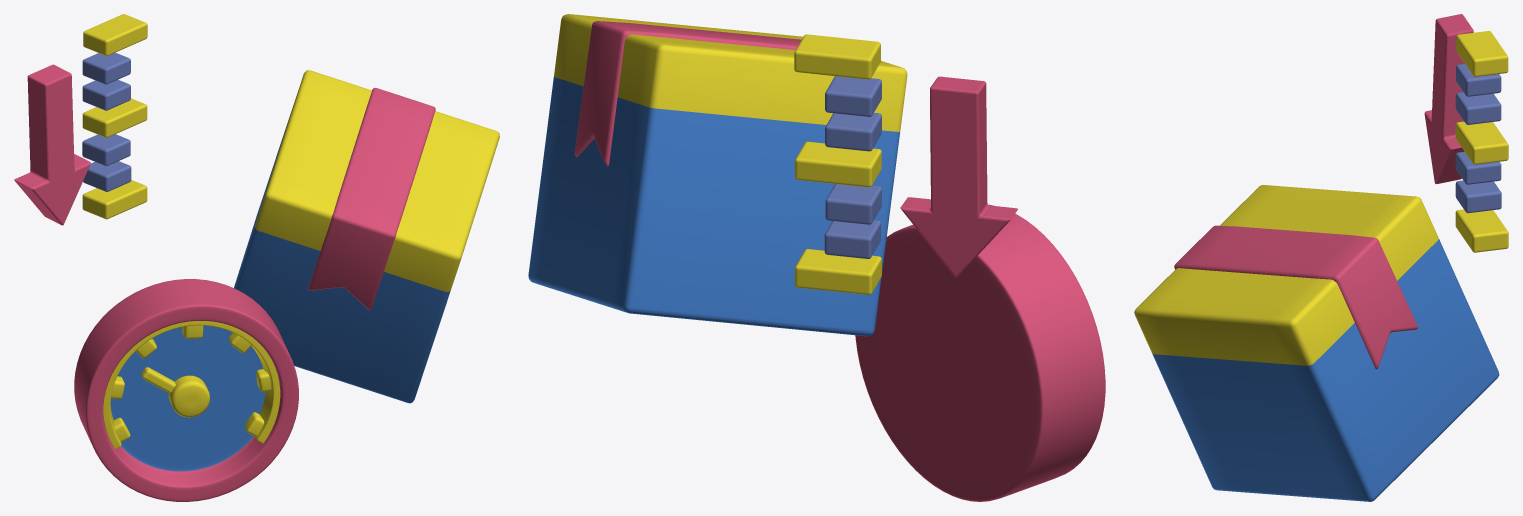
File: minumum-viable-product-3d-animated-icon-91194092560.glb
3 renders of one model, left to right at view 1: azimuth 30°, elevation 25°; view 2: azimuth 150°, elevation 25°; view 3: azimuth 270°, elevation 25°, orthographic. The views are drawn at different scales.
Visible parts, largest first — view 1: Cube.006, Cylinder.003, Cube.005, Plane.050, Cylinder.001, Cube.060, Cube.004, Cube.003, Cylinder.002, Cube.062, Cube.002, Cube.061 (+1 smaller); view 2: Cube.006, Cylinder.003, Plane.050, Cube.005, Cube.060, Cube.004, Cube.003, Cube.002, Cube.062, Cube.061, Cube.001; view 3: Cube.006, Cube.005, Plane.050, Cube.060, Cube.004, Cube.003, Cube.001, Cube.061, Cube.062, Cube.002.
Boxes of the visible parts, x1,y1,x2,y2 form: Cube.006: [234, 70, 499, 403]; Cylinder.003: [74, 279, 298, 501]; Cube.005: [308, 88, 435, 310]; Plane.050: [14, 64, 90, 225]; Cylinder.001: [103, 321, 280, 449]; Cube.060: [83, 14, 147, 55]; Cube.004: [82, 180, 147, 219]; Cube.003: [82, 98, 147, 137]; Cylinder.002: [168, 375, 209, 417]; Cube.062: [82, 134, 130, 165]; Cube.002: [82, 52, 130, 84]; Cube.061: [82, 80, 130, 110]; Cube.006: [528, 14, 907, 336]; Cylinder.003: [855, 204, 1105, 501]; Plane.050: [900, 76, 1017, 277]; Cube.005: [574, 21, 801, 166]; Cube.060: [794, 34, 880, 79]; Cube.004: [795, 249, 881, 294]; Cube.003: [795, 141, 881, 187]; Cube.002: [825, 76, 881, 116]; Cube.062: [825, 184, 881, 224]; Cube.061: [825, 112, 881, 151]; Cube.001: [824, 220, 880, 258]; Cube.006: [1134, 185, 1499, 501]; Cube.005: [1174, 225, 1417, 369]; Plane.050: [1424, 14, 1473, 184]; Cube.060: [1456, 31, 1508, 76]; Cube.004: [1455, 209, 1508, 252]; Cube.003: [1455, 121, 1508, 164]; Cube.001: [1455, 180, 1501, 213]; Cube.061: [1455, 92, 1501, 124]; Cube.062: [1455, 151, 1501, 184]; Cube.002: [1456, 64, 1501, 96].
Size of the model in its own units: 8.8 by 7.99 by 6.4.
